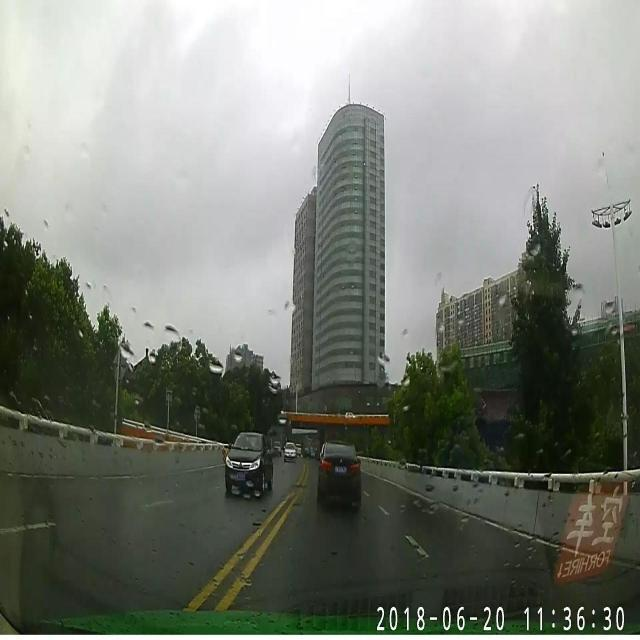car: (316, 440, 362, 513), (224, 429, 272, 498), (284, 441, 297, 463)
